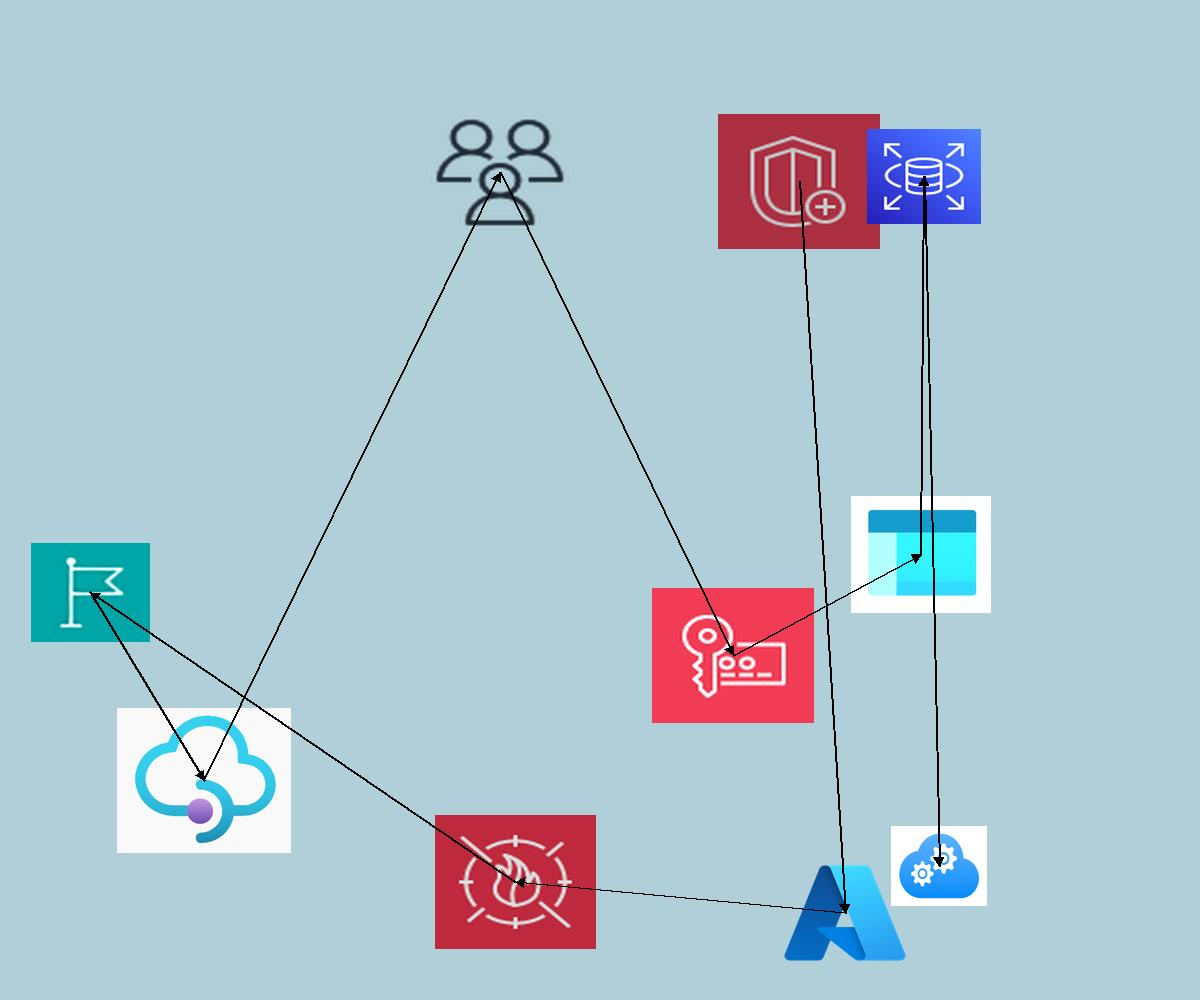AWS-Key-Management-Service: (652, 588, 814, 723)
AWS-RDS: (867, 129, 981, 224)
AWS-Region: (31, 543, 150, 642)
AWS-Res_Users: (431, 115, 569, 230)
AWS-Shield: (718, 114, 880, 249)
AWS-WAF: (435, 815, 596, 949)
Azure_api_gateway: (117, 708, 291, 853)
Azure_cloud_services: (891, 826, 987, 906)
Azure_management-portal: (851, 496, 991, 613)
Azure_services: (779, 858, 911, 968)
